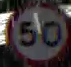Speed limit: (6, 2, 68, 61)
